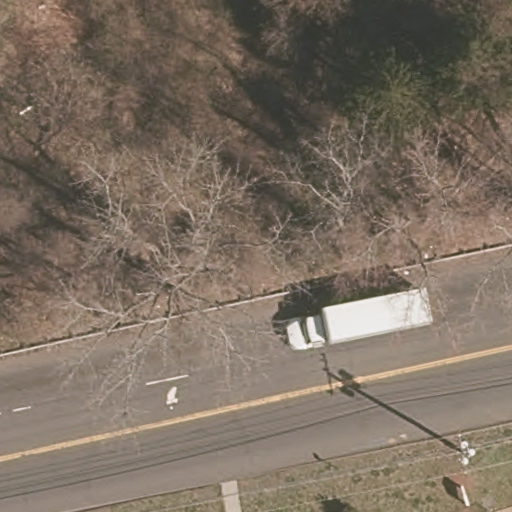DT: (441, 423, 487, 478)
